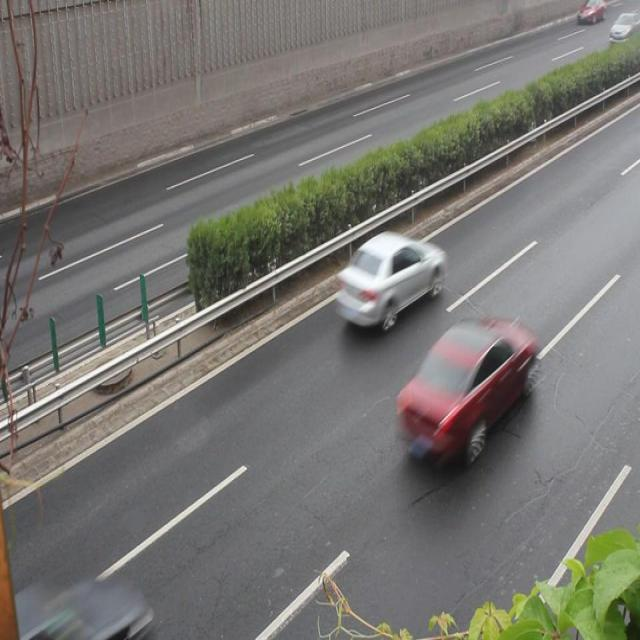car: (392, 315, 532, 468), (336, 230, 443, 332)
